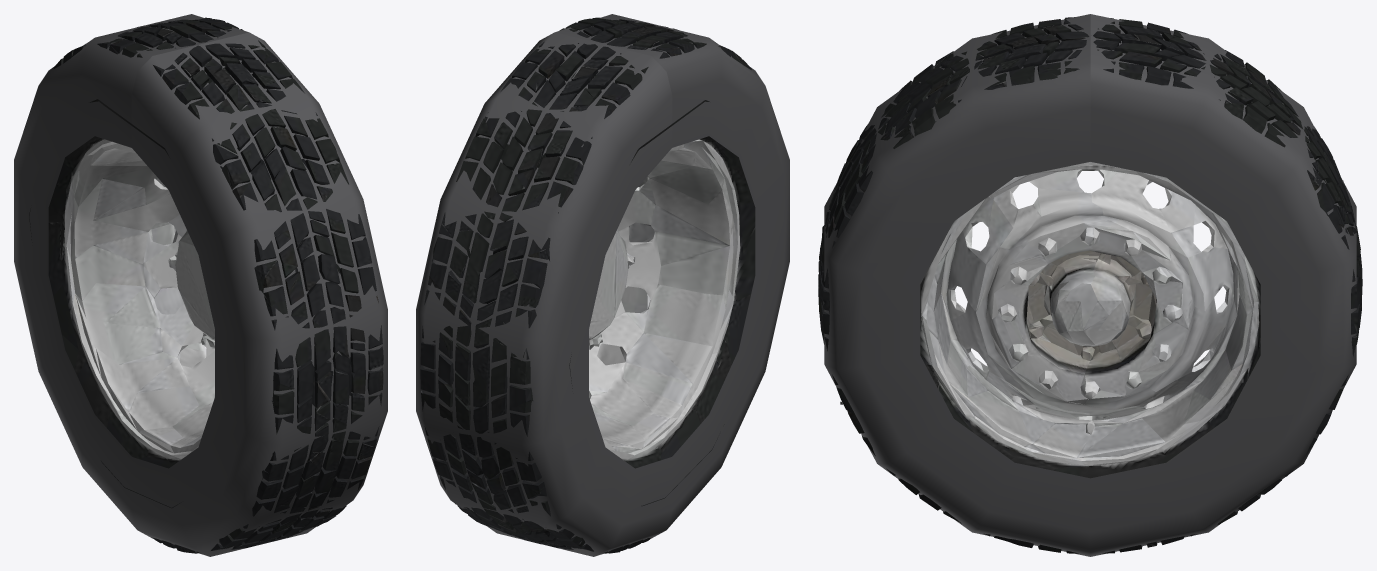
Rendered from roda_onibus.glb.
3 renders of one model, left to right at view 1: azimuth 30°, elevation 25°; view 2: azimuth 150°, elevation 25°; view 3: azimuth 270°, elevation 25°, orthographic. The views are drawn at different scales.
Parts seen in each view (by area): view 1: output_unwrapped, longe; view 2: output_unwrapped, longe; view 3: longe, output_unwrapped.
Boxes of the visible parts, x1,y1,x2,y2 form: output_unwrapped: [29, 17, 383, 553]; longe: [14, 14, 387, 556]; output_unwrapped: [420, 17, 755, 553]; longe: [416, 14, 789, 556]; longe: [824, 14, 1356, 556]; output_unwrapped: [818, 17, 1362, 553].
Size of the model in its own units: 0.6005 by 2 by 2.
2 materials, 1 textured.
